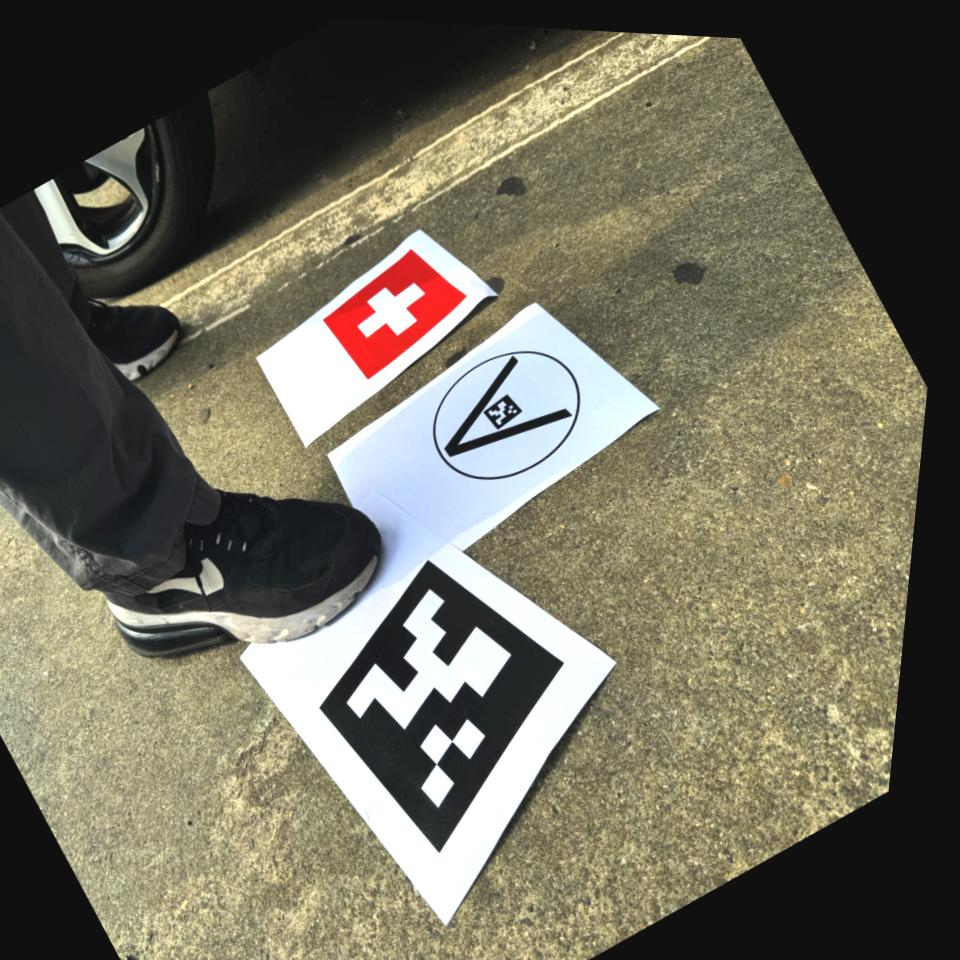ArUro mark: (304, 540, 576, 867)
rescue point: (295, 214, 497, 403)
vertiport: (389, 313, 620, 528)
